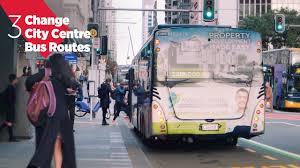bus: (129, 25, 266, 147)
